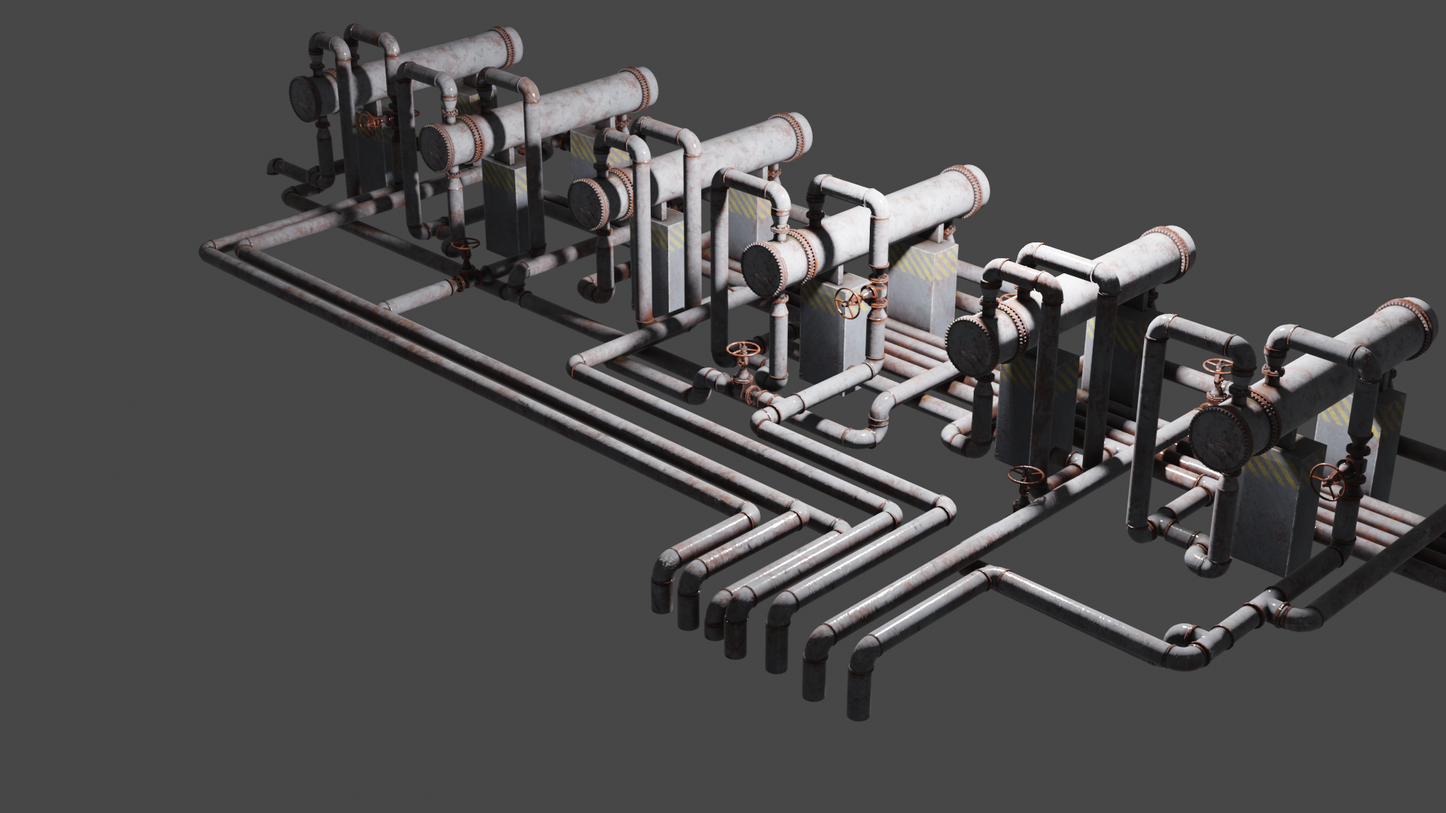HE_1: (285, 24, 524, 123)
HE_2: (420, 63, 659, 173)
HE_3: (567, 109, 815, 231)
HE_4: (737, 160, 992, 298)
HE_5: (944, 223, 1200, 380)
HE_6: (1185, 295, 1437, 472)
